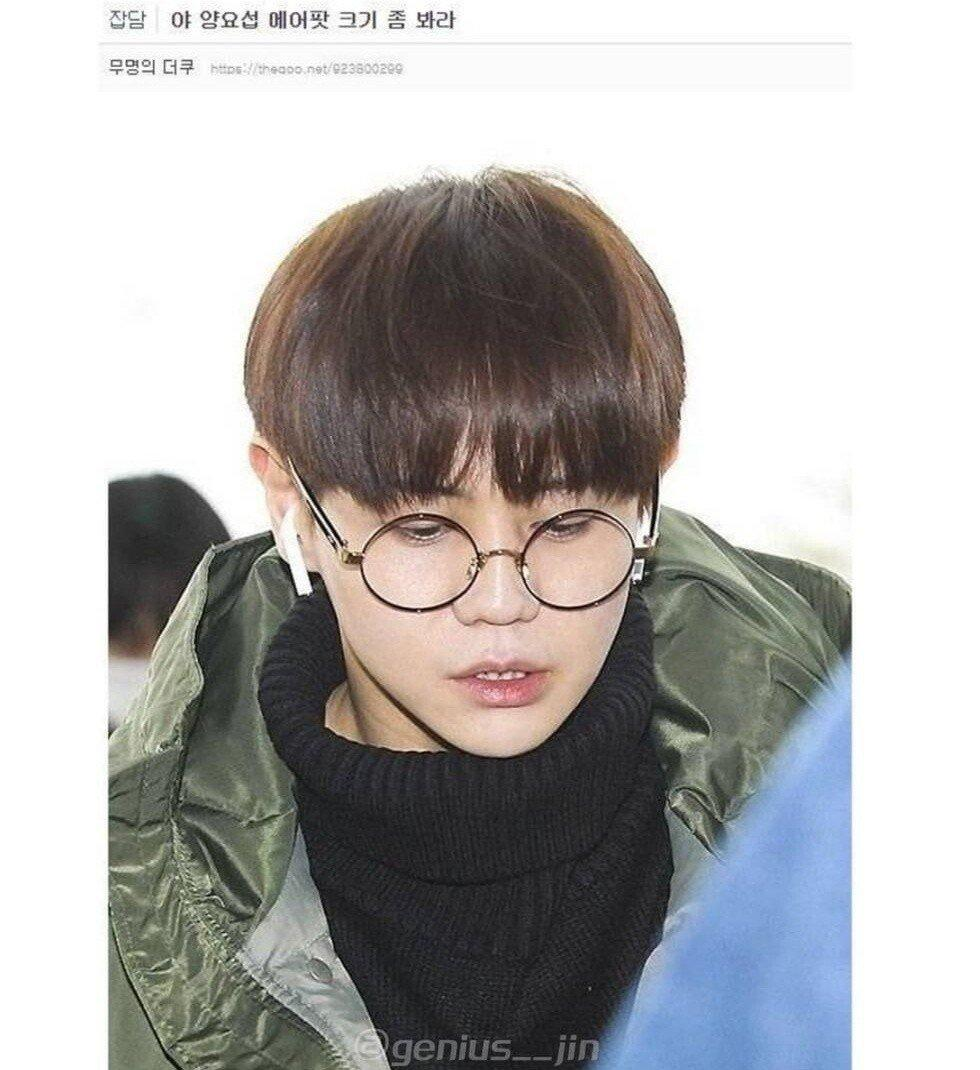earphone: (267, 494, 319, 604), (630, 504, 665, 564)
